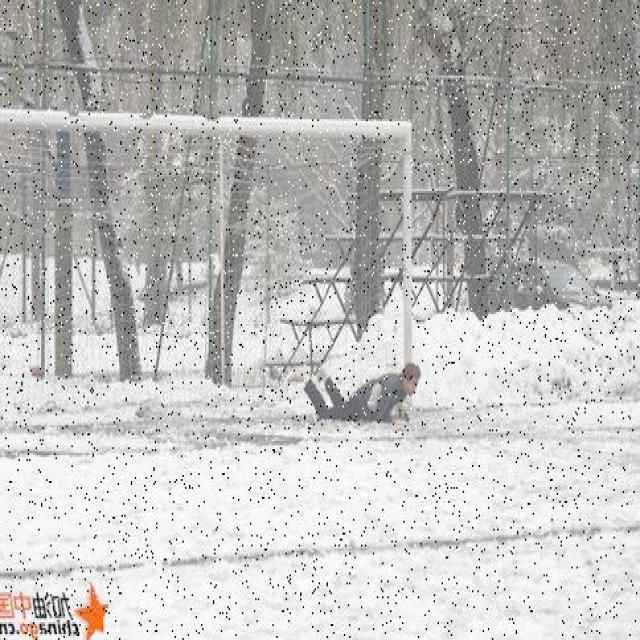fall: (298, 362, 424, 422)
